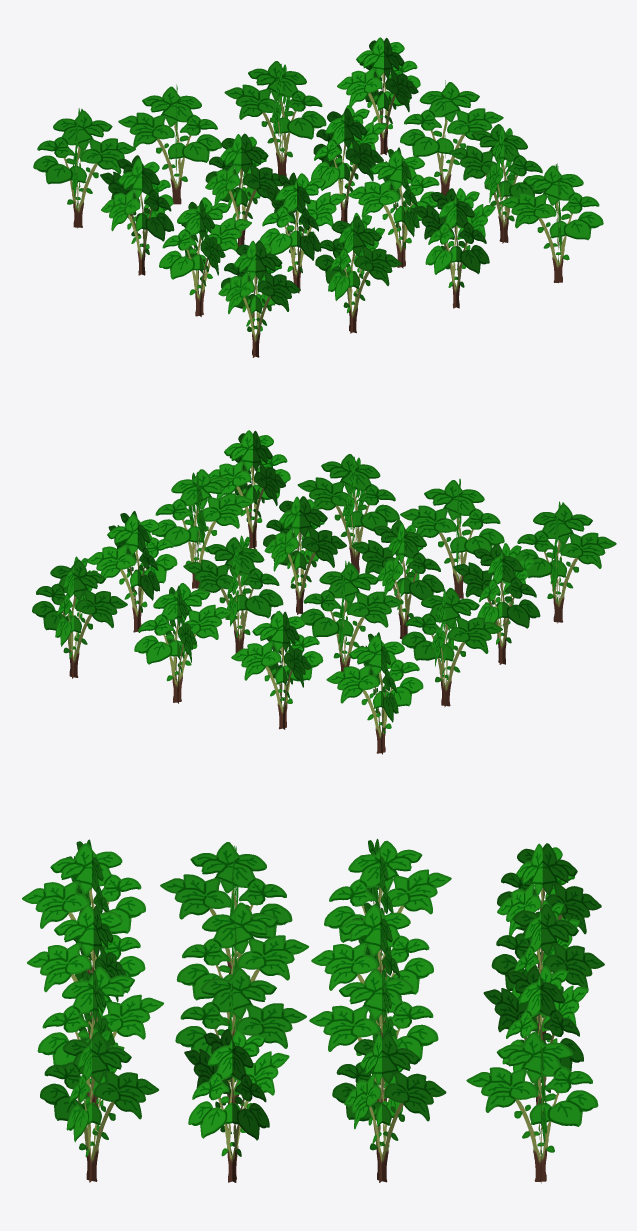
File: Potato_F2.fbx
3 renders of one model, top to bottom at view 1: azimuth 30°, elevation 25°; view 2: azimuth 150°, elevation 25°; view 3: azimuth 270°, elevation 25°, orthographic. The views are drawn at different scales.
Visible parts, largest first — view 1: Potatoe_F2; view 2: Potatoe_F2; view 3: Potatoe_F2.
Part boxes in pixels (left/top/right/bottom): Potatoe_F2: left=33, top=37, right=603, bottom=357; Potatoe_F2: left=32, top=430, right=616, bottom=754; Potatoe_F2: left=22, top=838, right=604, bottom=1183.
Bounding box in the file's own units: 223 × 60.3 × 222.
